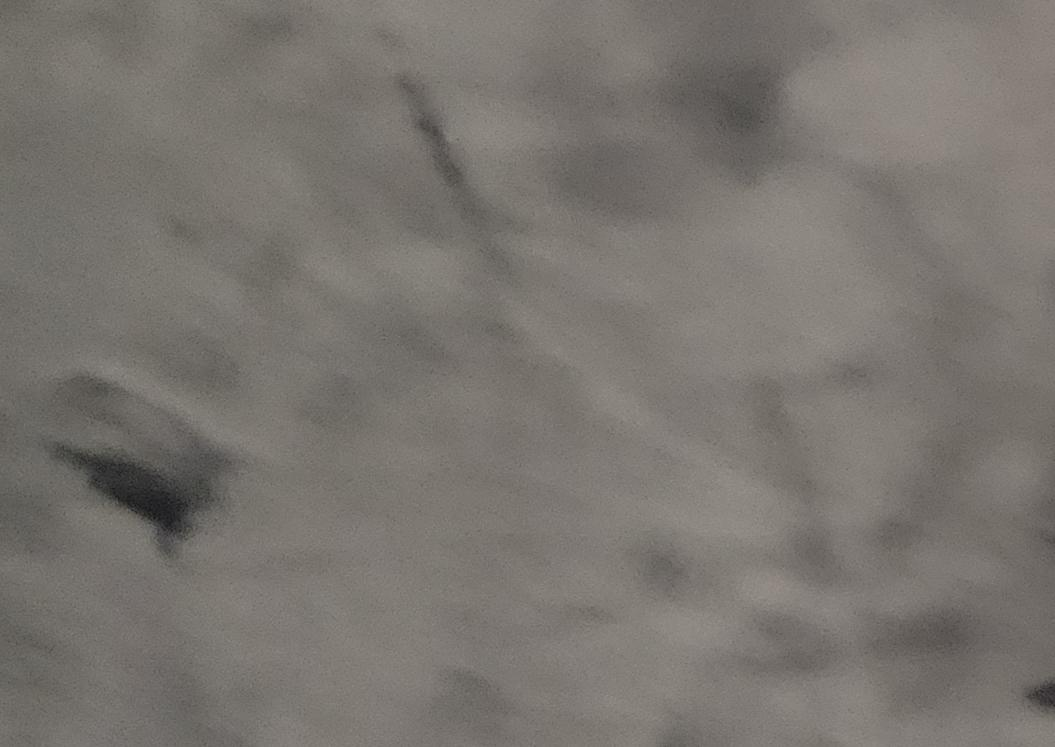Chip: (1, 444, 757, 747)
